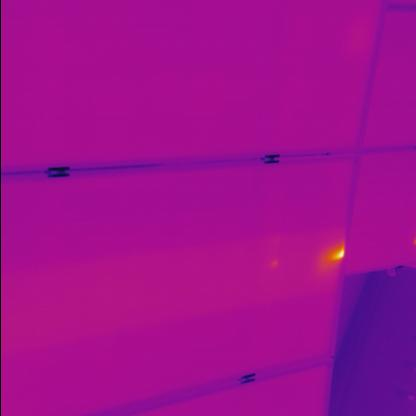hotspot: (322, 242, 346, 270)
